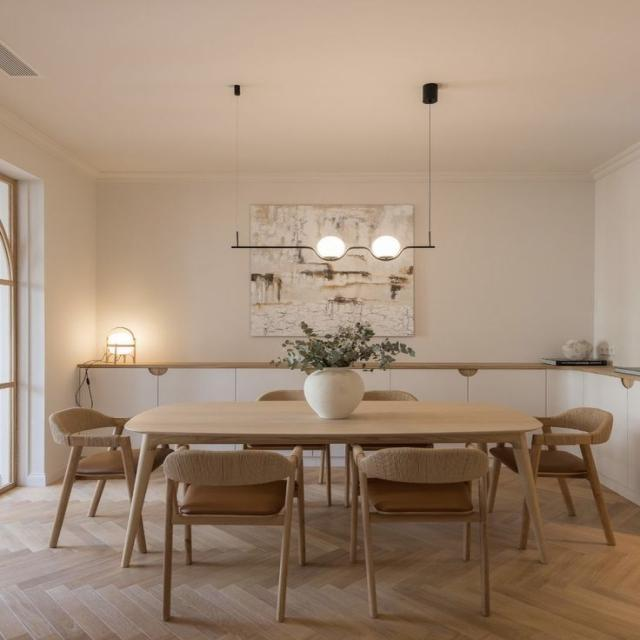obstacle: (128, 406, 554, 579), (161, 447, 306, 622), (352, 446, 492, 619), (48, 406, 173, 554), (487, 407, 616, 546), (344, 389, 434, 507), (242, 388, 330, 506)
